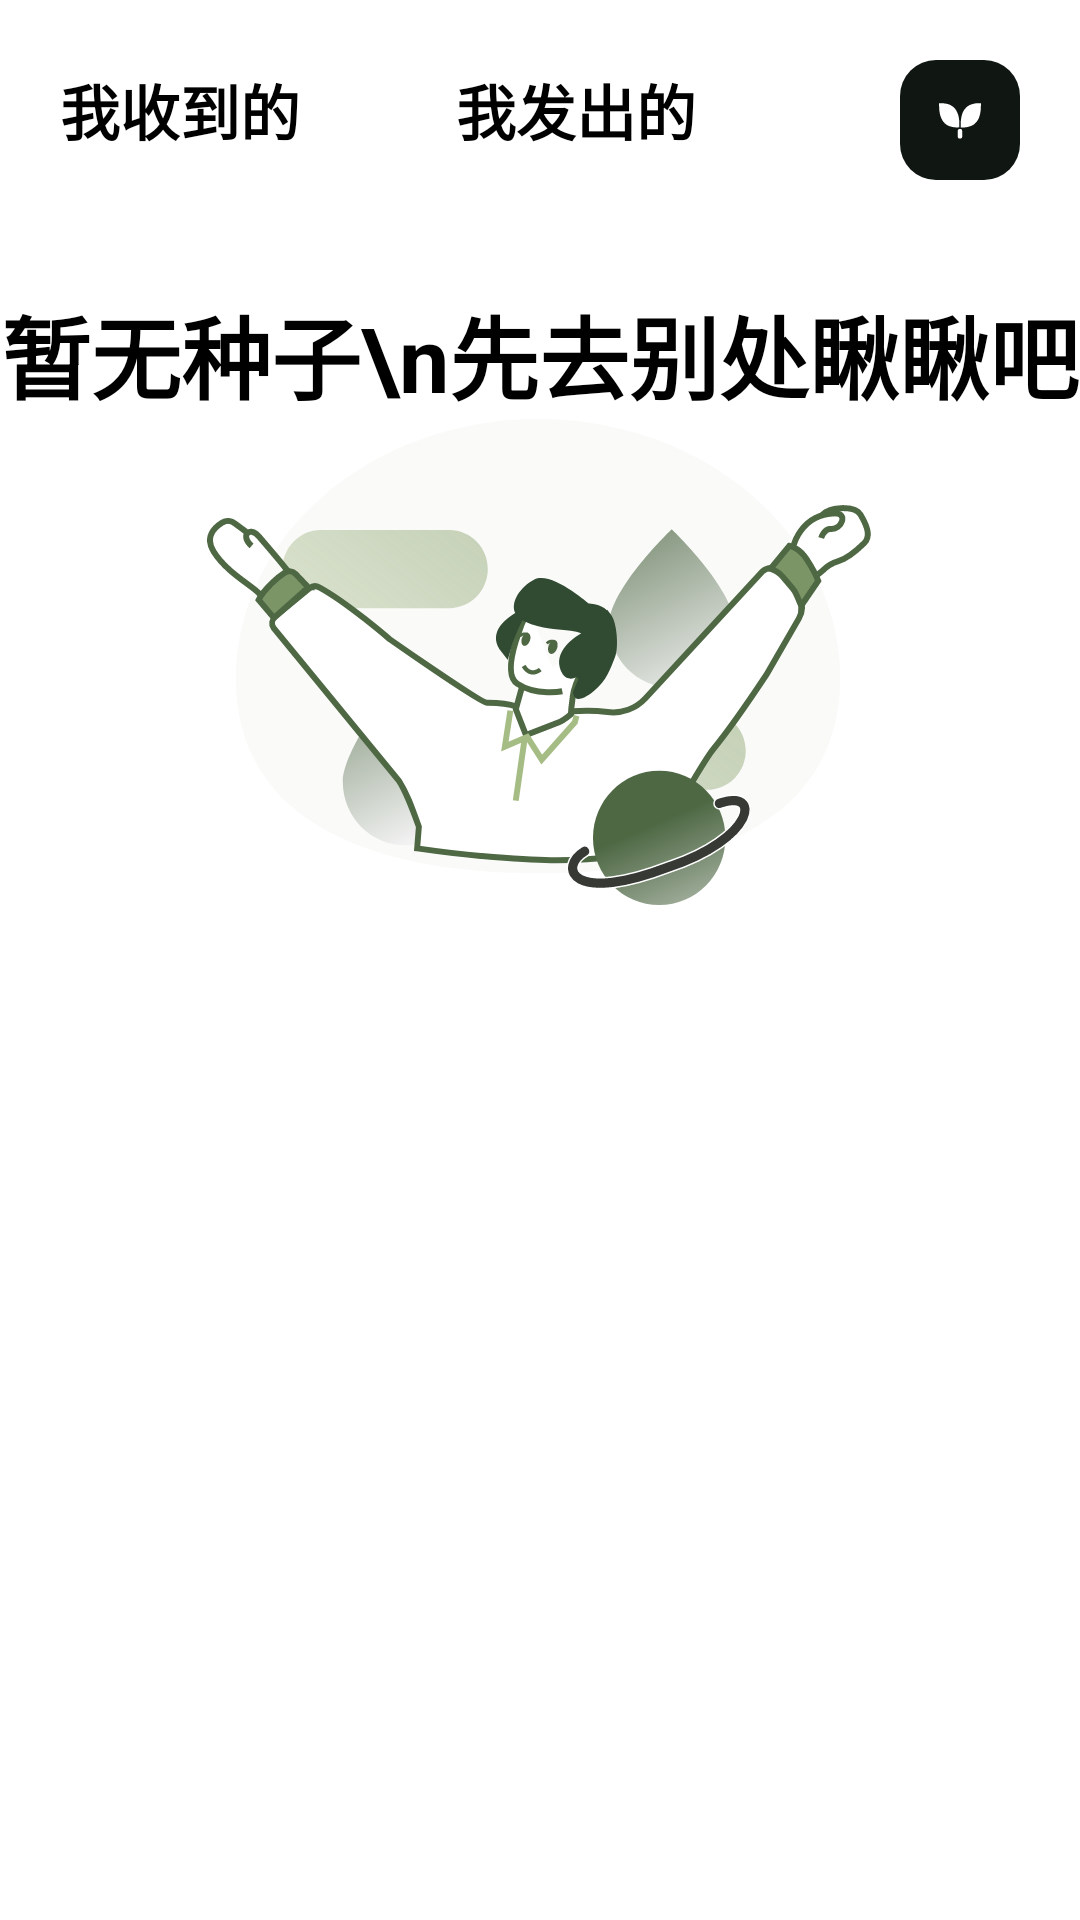

Where icons sit on this 1080 × 1920 app screen, as (x1, y1, x2, y2):
seed: (900, 60, 1020, 180)
